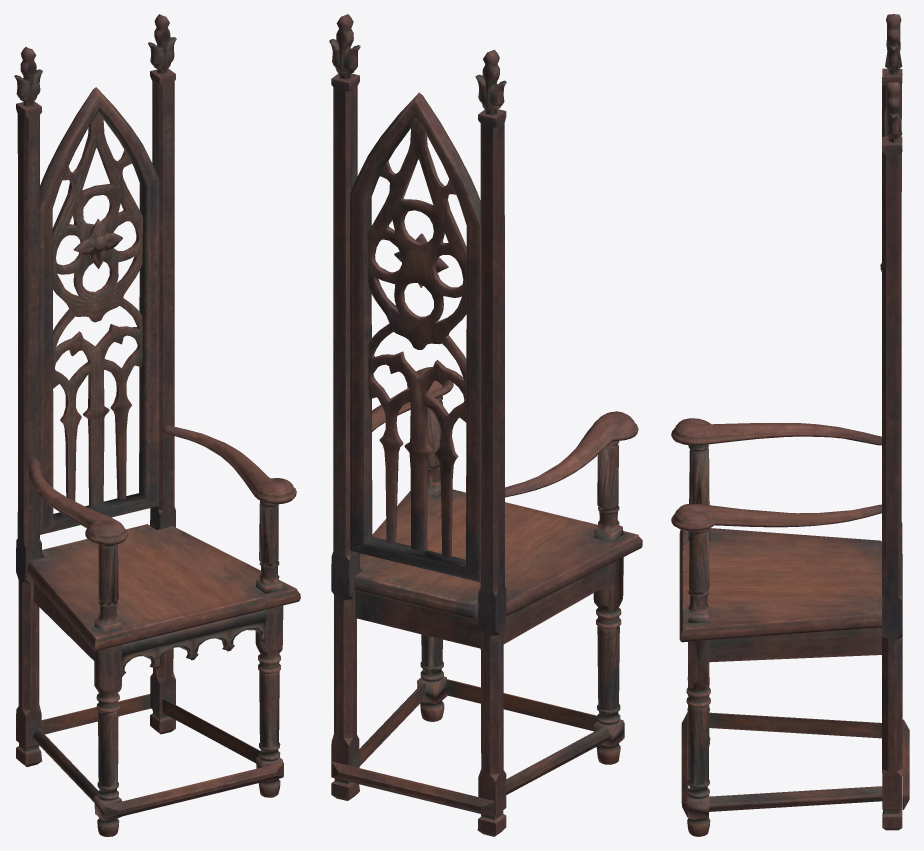
The model's file is WoodenChair_01.glb.
3 renders of one model, left to right at view 1: azimuth 30°, elevation 25°; view 2: azimuth 150°, elevation 25°; view 3: azimuth 270°, elevation 25°, orthographic. The views are drawn at different scales.
Visible parts, largest first — view 1: WoodenChair_01; view 2: WoodenChair_01; view 3: WoodenChair_01.
Part boxes in pixels (x1,y1,x2,y2): WoodenChair_01: (14,14,300,836); WoodenChair_01: (329,14,642,836); WoodenChair_01: (671,14,909,836).
Size of the model in its own units: 0.6878 by 2.27 by 0.6584.
1 material, 1 textured.
